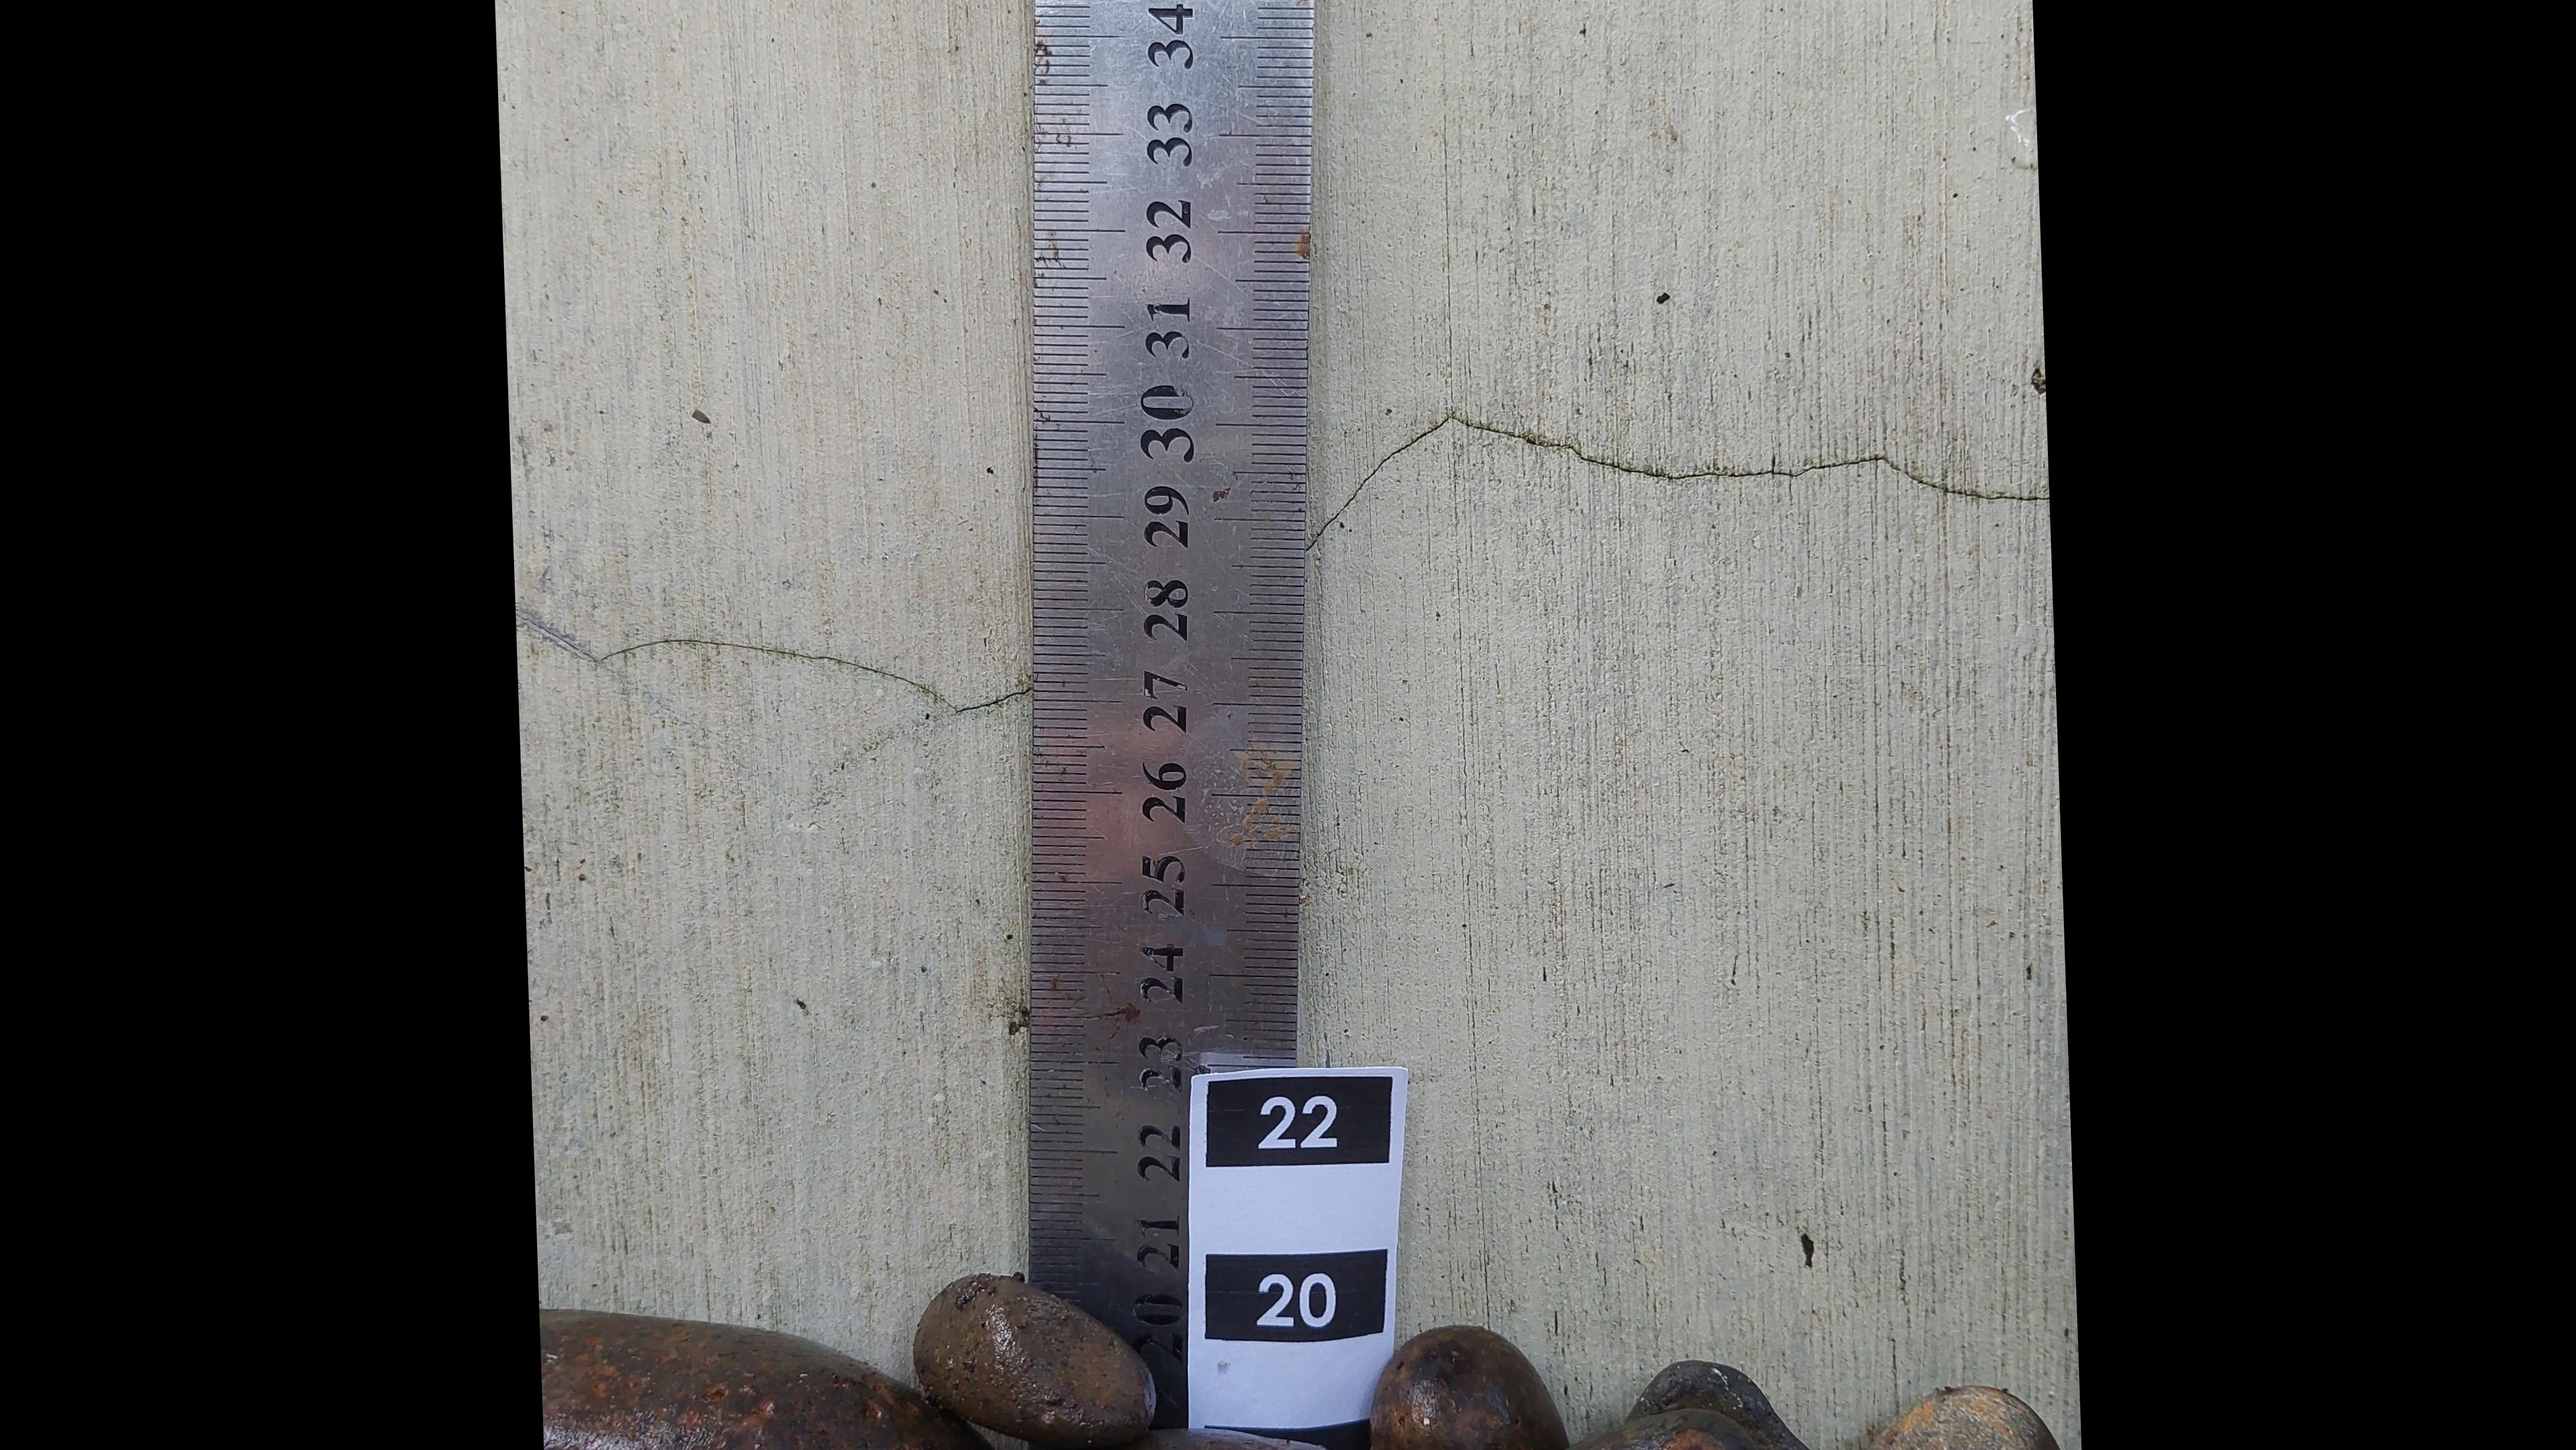kotak_2x1: (1205, 1254, 1385, 1342), (1205, 1079, 1387, 1165)
